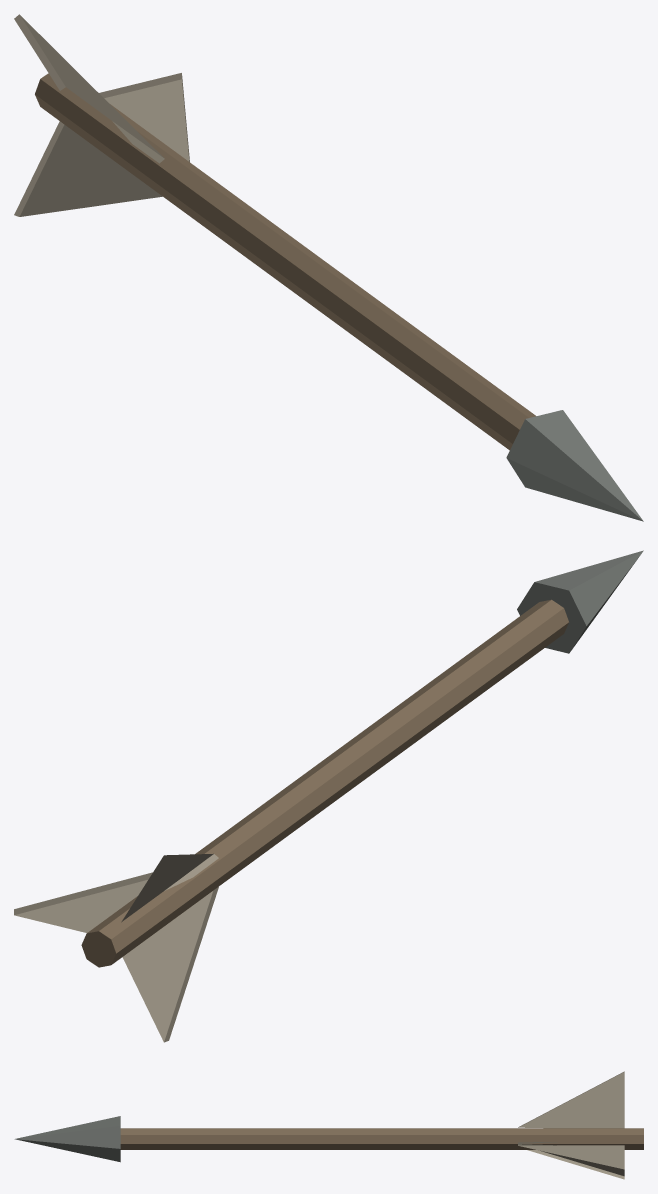
File: bolt.glb
The picture shows the model from 3 angles, top to bottom: view 1: azimuth 30°, elevation 25°; view 2: azimuth 150°, elevation 25°; view 3: azimuth 270°, elevation 25°; orthographic projection. The views are drawn at different scales.
Size of the model in its own units: 0.0534 by 0.0616 by 0.325.
